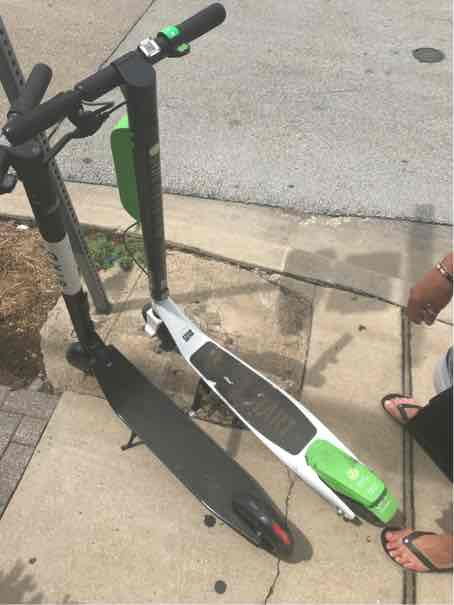scooter: (3, 3, 408, 559)
